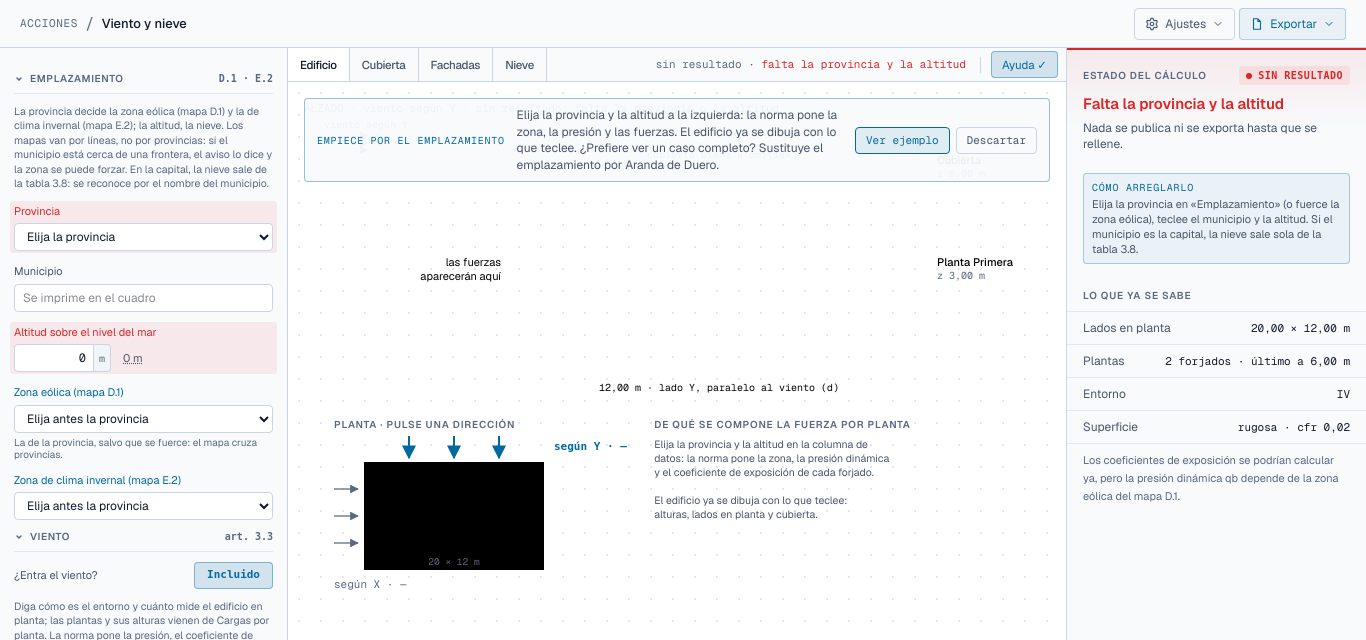
cubierta a dos aguas › incluirla despliega las zonas de las dos direcciones en la vista Cubierta y las publica
This screenshot has width=1366, height=640.
Select "Madrid" in the dropdown named "Provincia": (144, 237) [14,223,273,251]
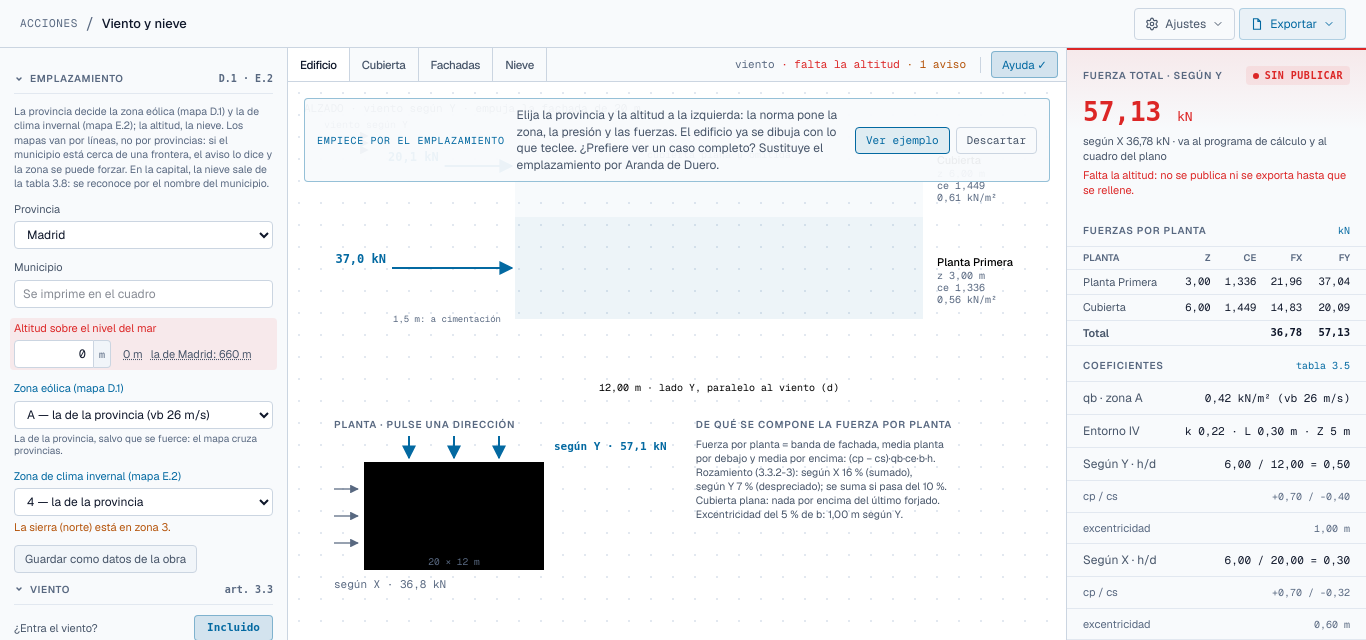
Replace the text in the field named "Altitud" with "660": (54, 354) [14,340,94,368]
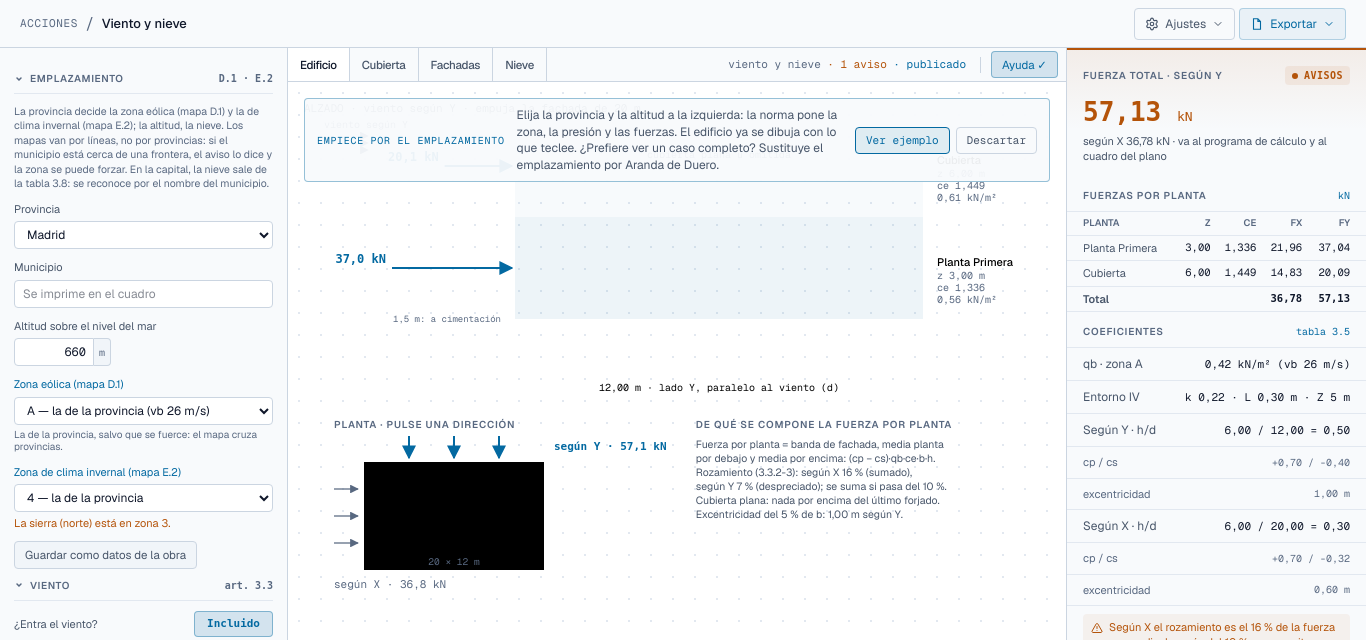
Click the button "Cubierta": click(384, 65) [350,48,418,81]
(page scrolled)
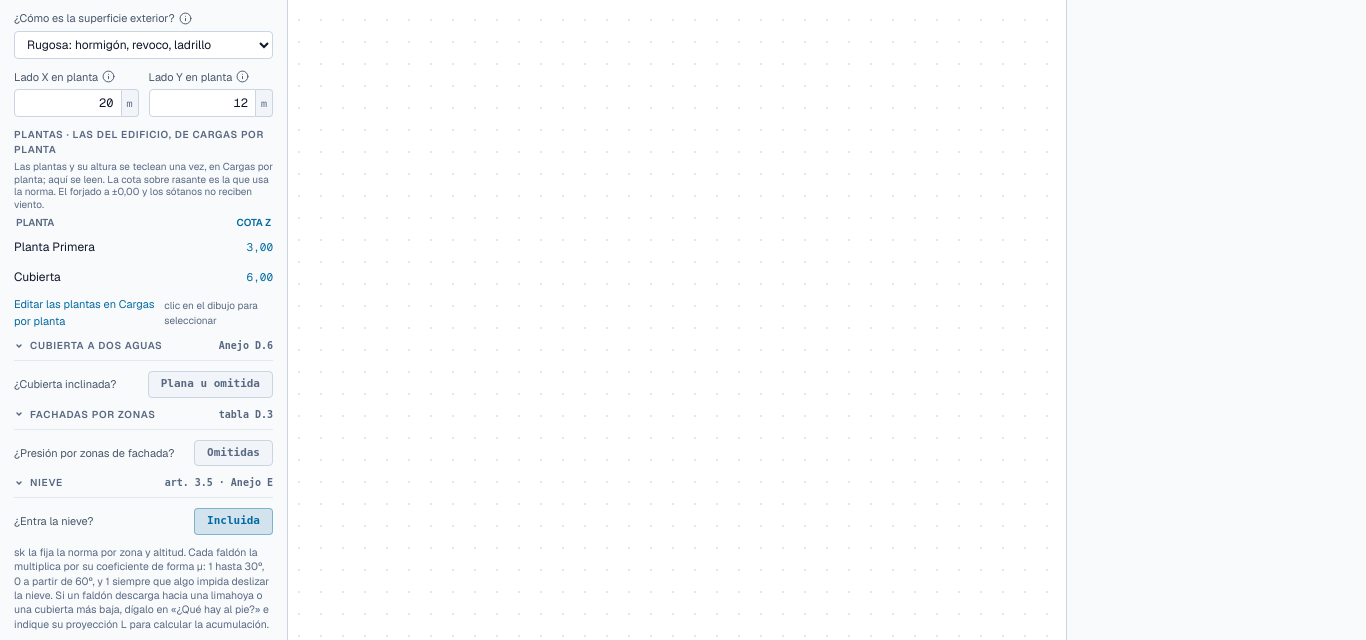
Click the button with aria-label "Incluir la cubierta a dos aguas": click(210, 384) [148,371,273,398]
(page scrolled)
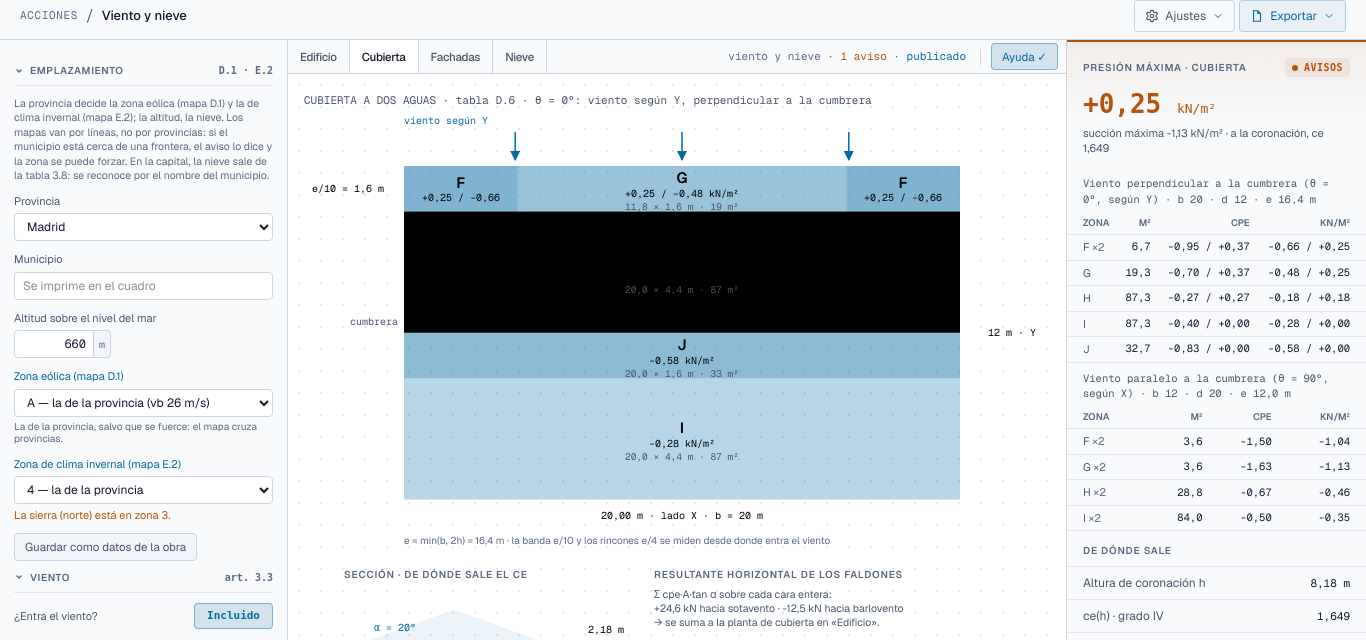
Check: the text "Viento perpendicular a la cumbrera (θ = 0º, según Y)" is shown, box [1083,176,1329,206]
Check: the text "Viento paralelo a la cumbrera (θ = 90º, según X)" is shown, box [1083,370,1329,400]
